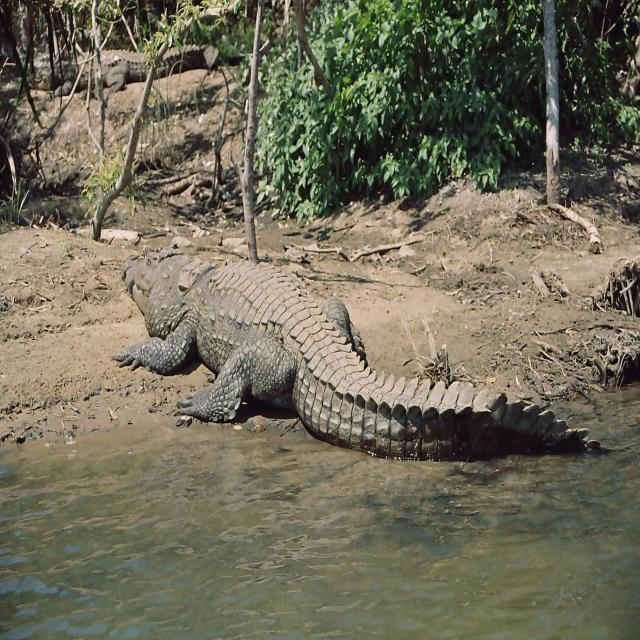crocodile: (111, 242, 604, 468)
